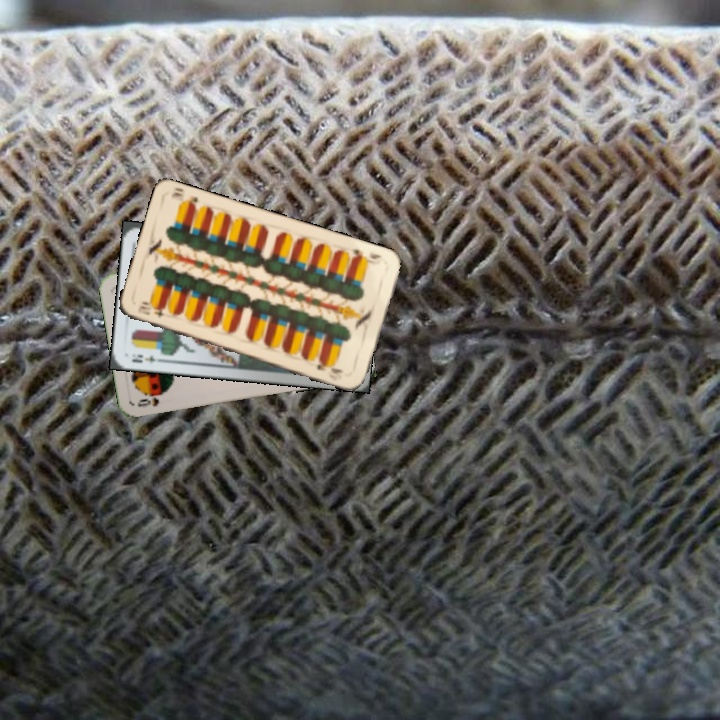E10: (348, 245, 384, 266), (133, 301, 167, 320)
EK: (127, 350, 166, 367)
SO: (134, 389, 166, 409)
